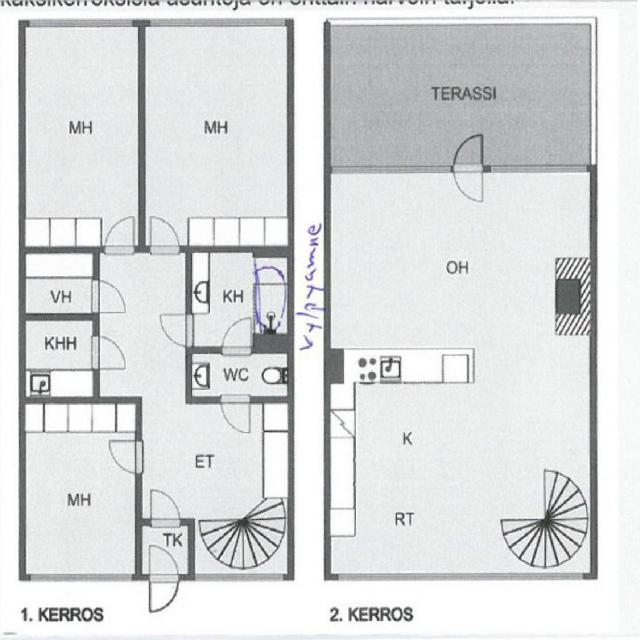door: (222, 312, 252, 353), (149, 573, 179, 613), (149, 213, 179, 253), (220, 396, 250, 436), (149, 541, 179, 580), (105, 213, 134, 253), (106, 441, 142, 473), (93, 336, 128, 368), (151, 486, 179, 526), (454, 133, 482, 172), (454, 165, 482, 204), (93, 281, 127, 312), (158, 315, 192, 346)
